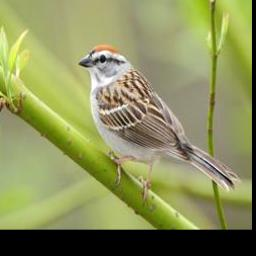Sparrow: (76, 44, 242, 205)
